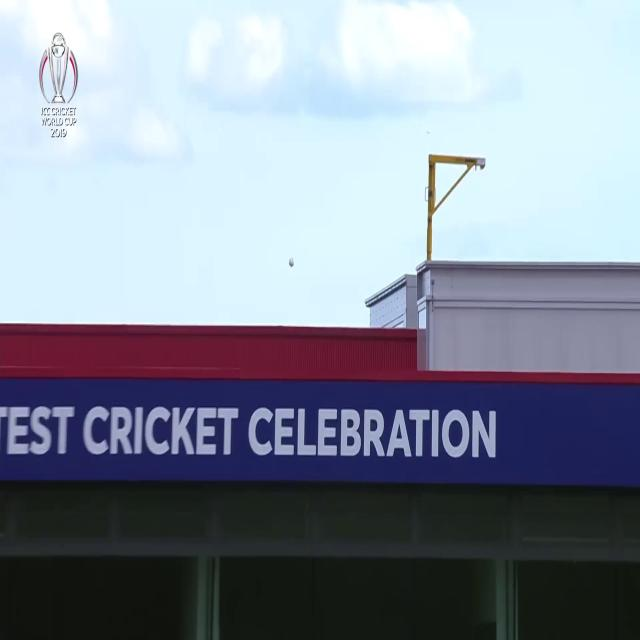ball: (288, 254, 294, 268)
